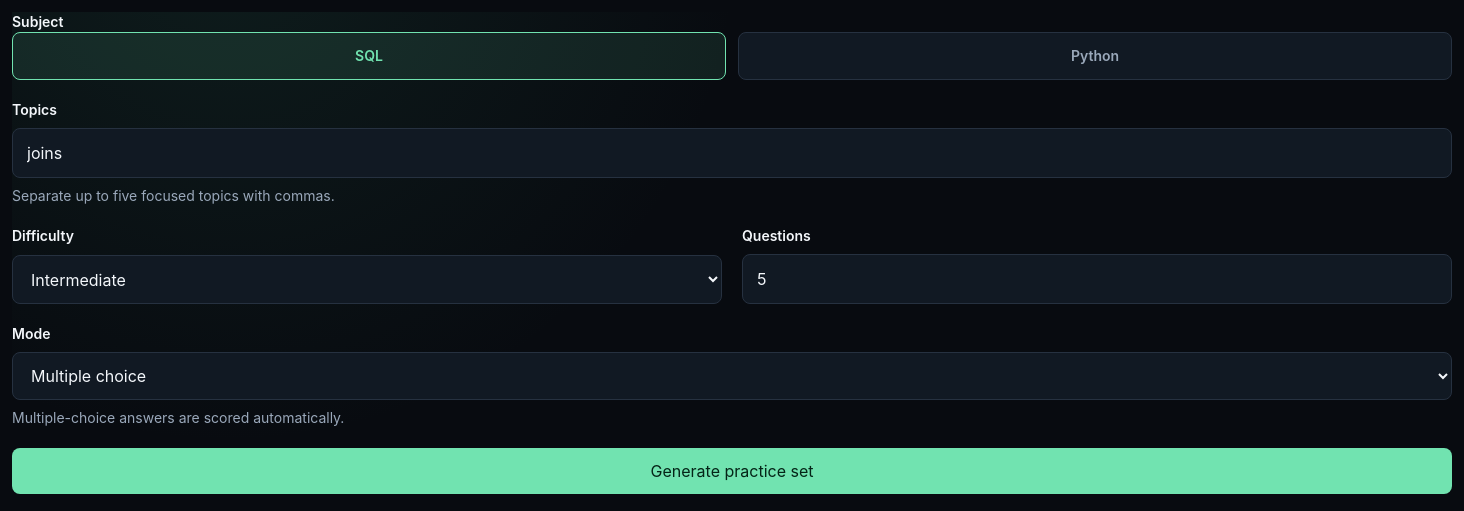
Test: GenerationForm › reports an empty topic on blur
Clear the field labelled "Topics" at (732, 153), box left=12, top=128, right=1452, bottom=178
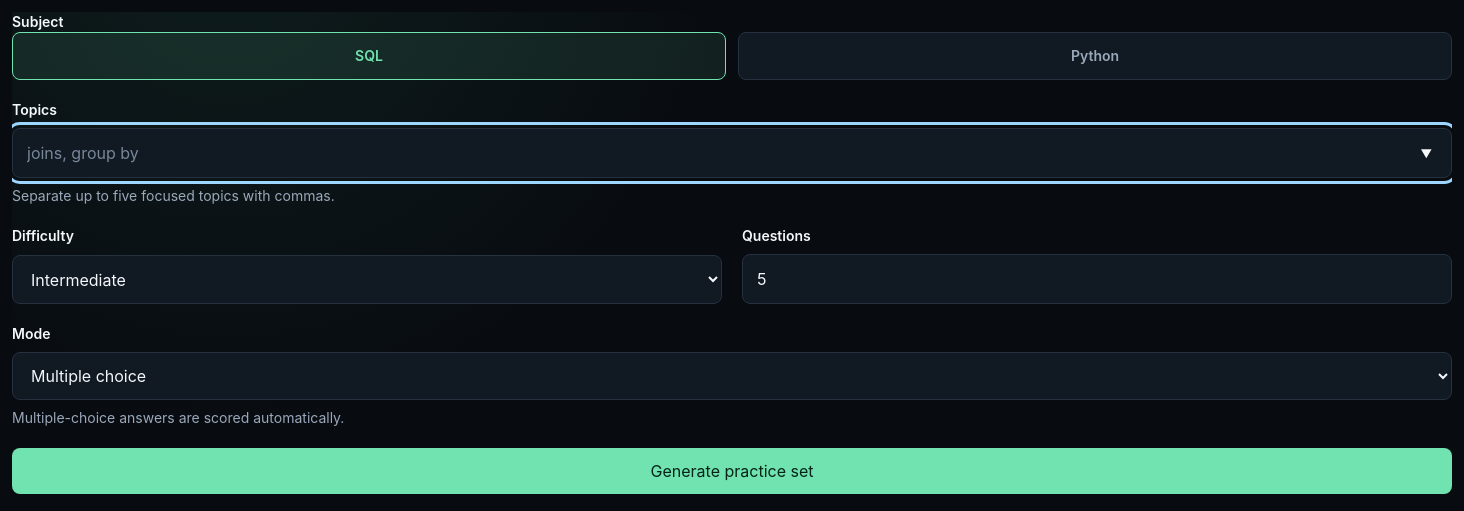
Press Tab
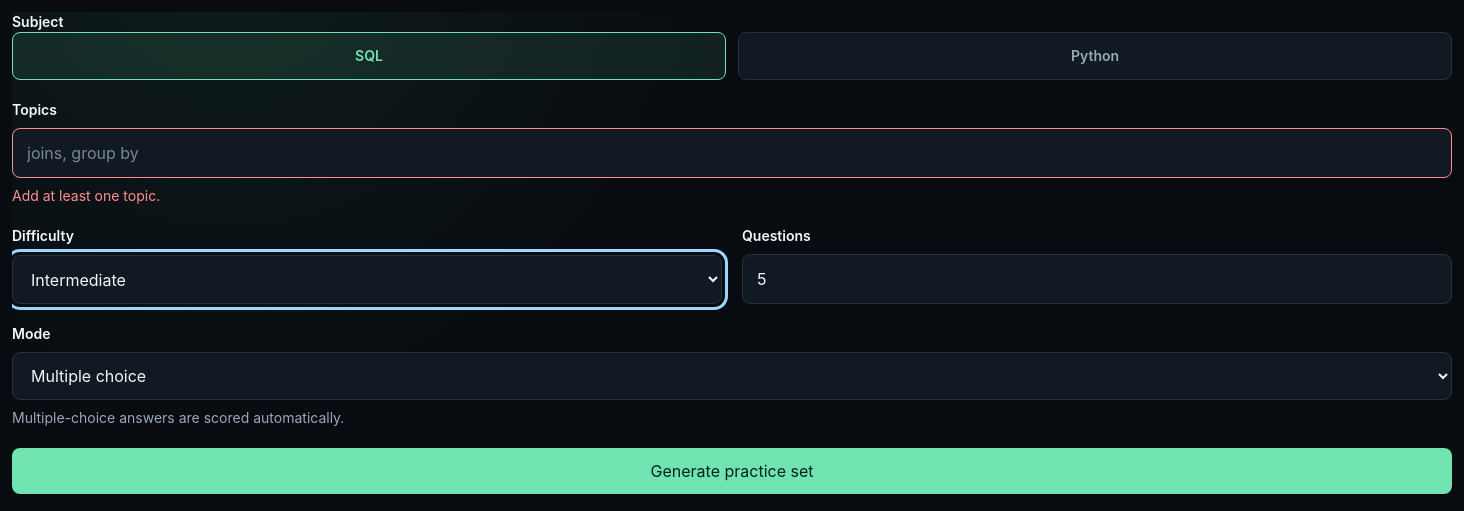
Now the message shows "Add at least one topic", box left=12, top=187, right=160, bottom=204
